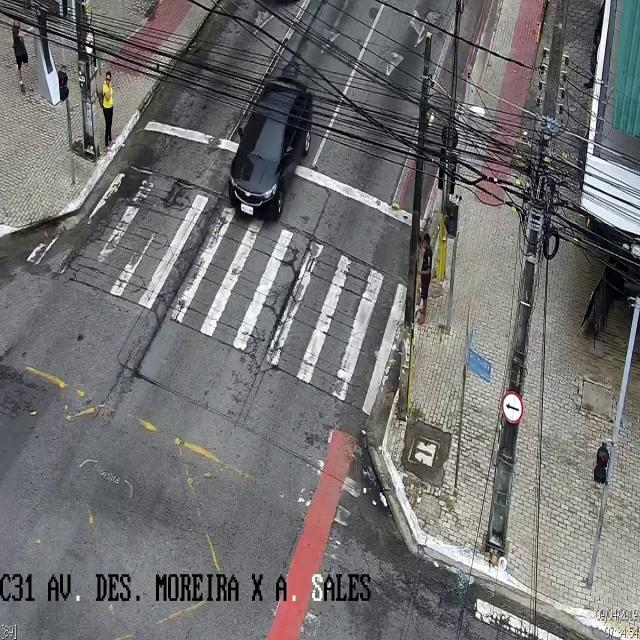Car: (227, 78, 313, 220)
